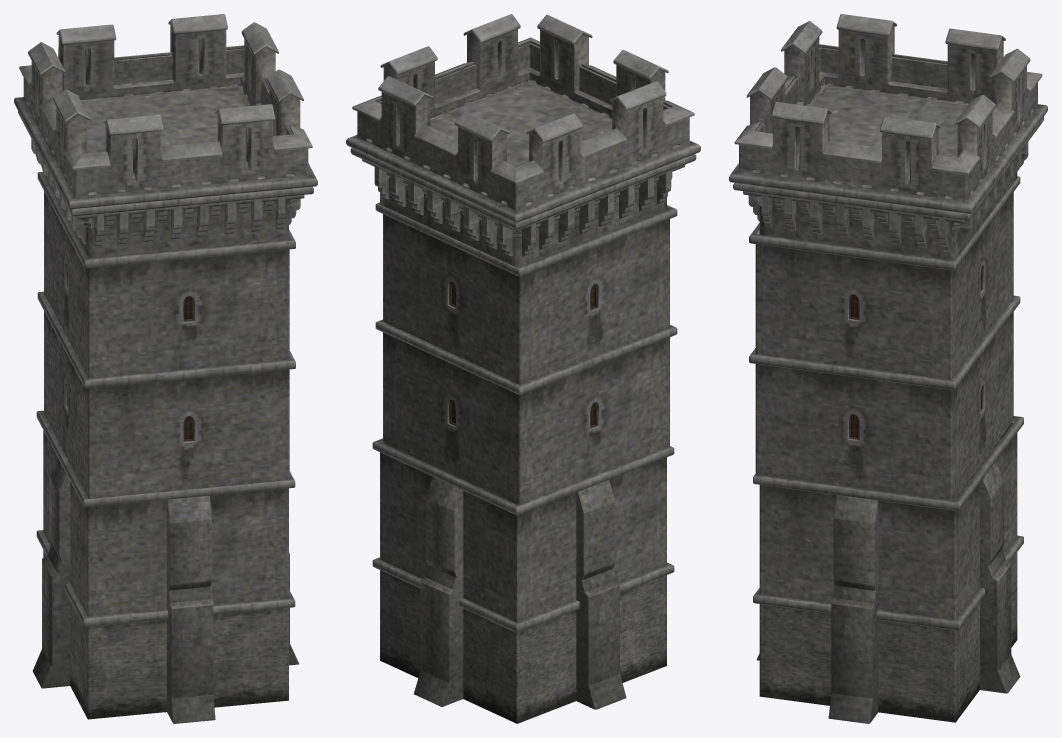
The model's file is Castle_Tower_Square_A3.fbx.
The picture shows the model from 3 angles, left to right: view 1: azimuth 30°, elevation 25°; view 2: azimuth 150°, elevation 25°; view 3: azimuth 270°, elevation 25°; orthographic projection.
Visible parts, largest first — view 1: Castle_Tower_Square_A.003; view 2: Castle_Tower_Square_A.003; view 3: Castle_Tower_Square_A.003.
Part boxes in pixels (bbox=[...]): Castle_Tower_Square_A.003: bbox=[14, 14, 317, 723]; Castle_Tower_Square_A.003: bbox=[346, 14, 700, 723]; Castle_Tower_Square_A.003: bbox=[729, 14, 1047, 723].
Bounding box in the file's own units: 776 × 1610 × 776.
